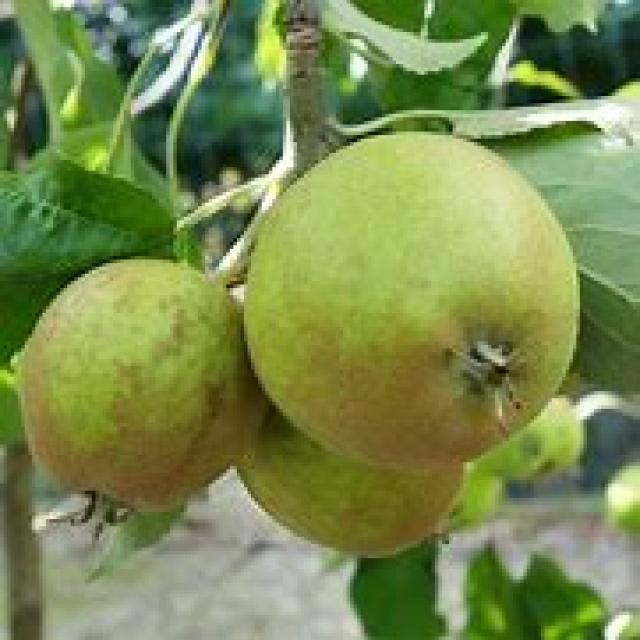apple: (242, 129, 582, 477)
